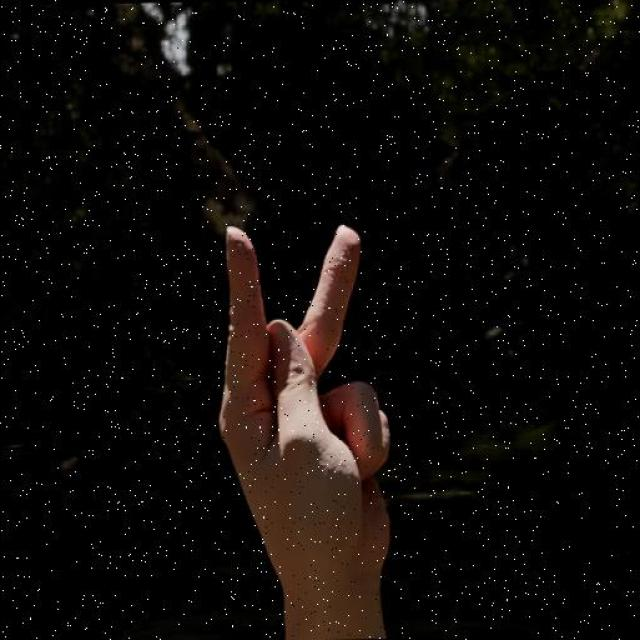K: (216, 218, 397, 567)
